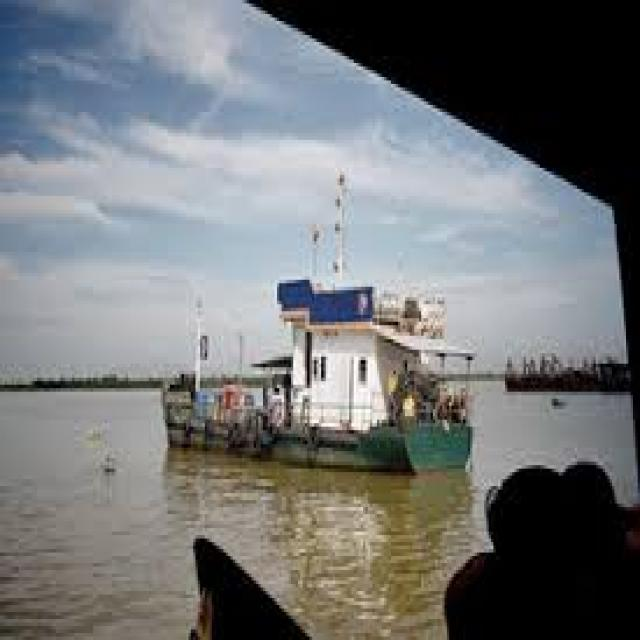fishing boat: (145, 213, 469, 470)
